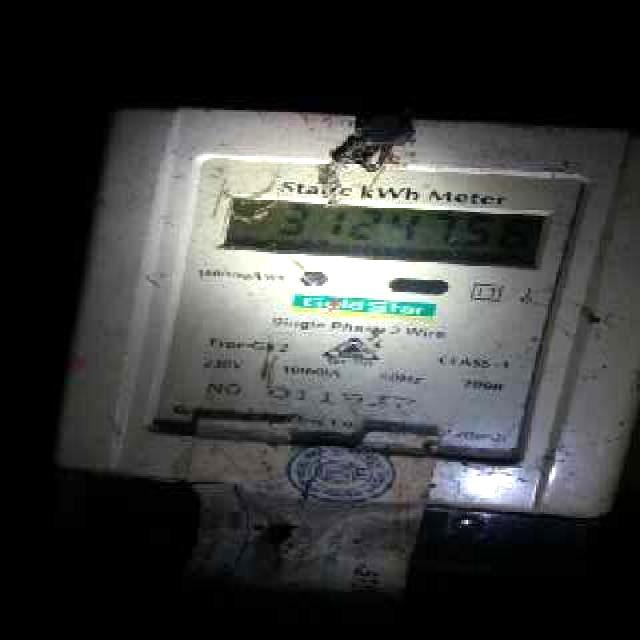LCD: (220, 188, 563, 289)
